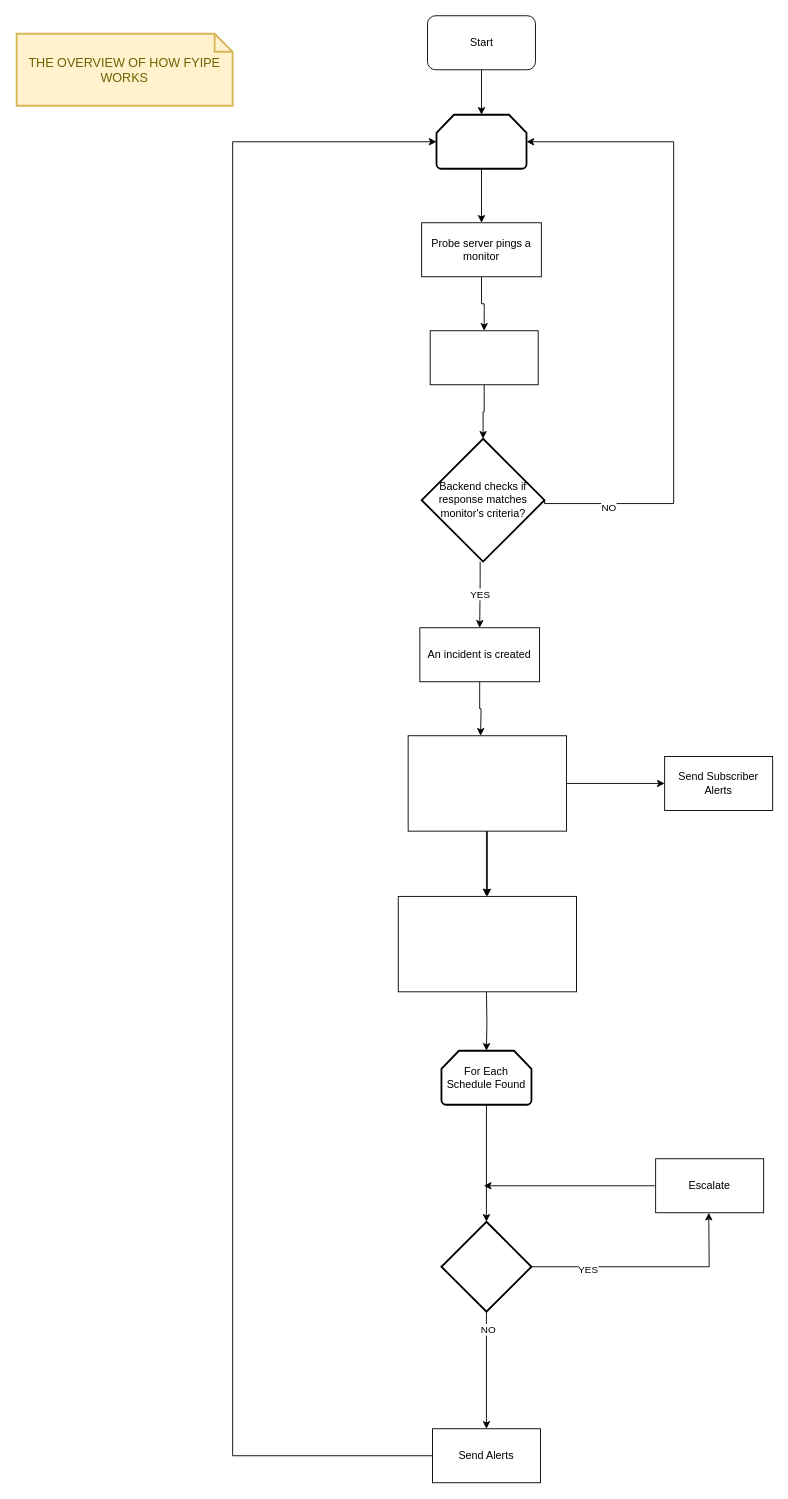
The diagram is 788 pixels wide and 1499 high, and some of its shapes have lost their labels. Each missing label, with the box of its shape:
For Available Monitors: (435, 113, 527, 169)
Needs Escalation?: (440, 1220, 532, 1312)
Probe calls backend API: (429, 330, 538, 385)
The monitor the incident belongs to is identified: (407, 735, 567, 831)
The schedules collection is parse to find those consisting of the monitor: (397, 896, 576, 992)
